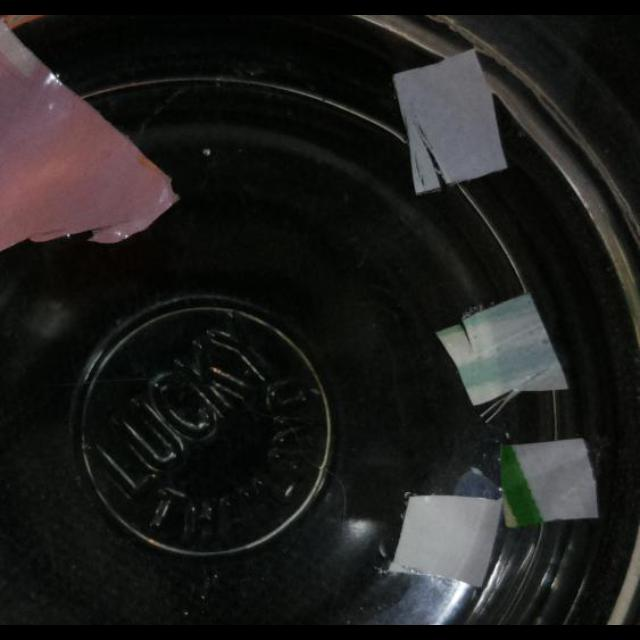Fragment: (0, 15, 180, 253), (431, 294, 574, 408), (394, 51, 506, 196), (385, 492, 499, 586), (499, 438, 603, 532)
